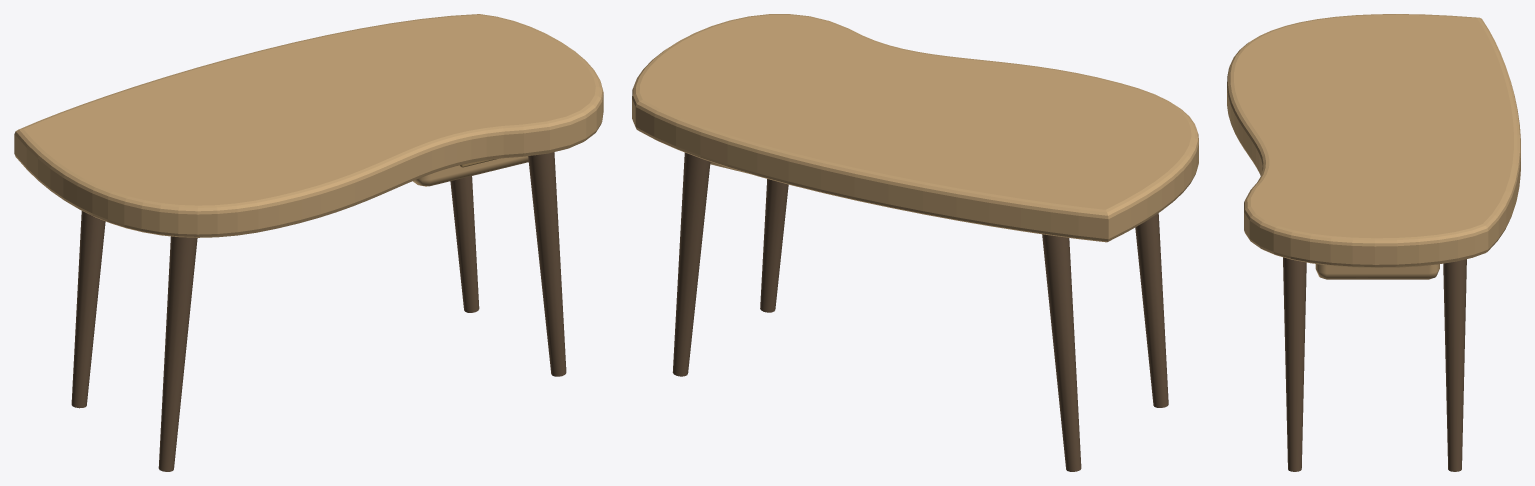
The model's file is desk.glb.
The picture shows the model from 3 angles, left to right: view 1: azimuth 30°, elevation 25°; view 2: azimuth 150°, elevation 25°; view 3: azimuth 270°, elevation 25°; orthographic projection. The views are drawn at different scales.
Visible parts, largest first — view 1: atelier-warm-desk; view 2: atelier-warm-desk; view 3: atelier-warm-desk.
Part boxes in pixels (left/top/right/bottom): atelier-warm-desk: left=14, top=14, right=603, bottom=471; atelier-warm-desk: left=632, top=14, right=1198, bottom=471; atelier-warm-desk: left=1227, top=14, right=1520, bottom=471.
Bounding box in the file's own units: 1.92 × 1 × 1.04.
